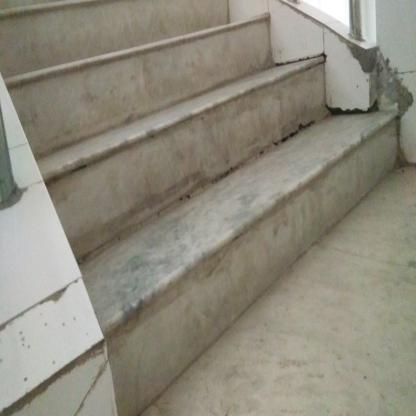stairs: (168, 46, 266, 401)
